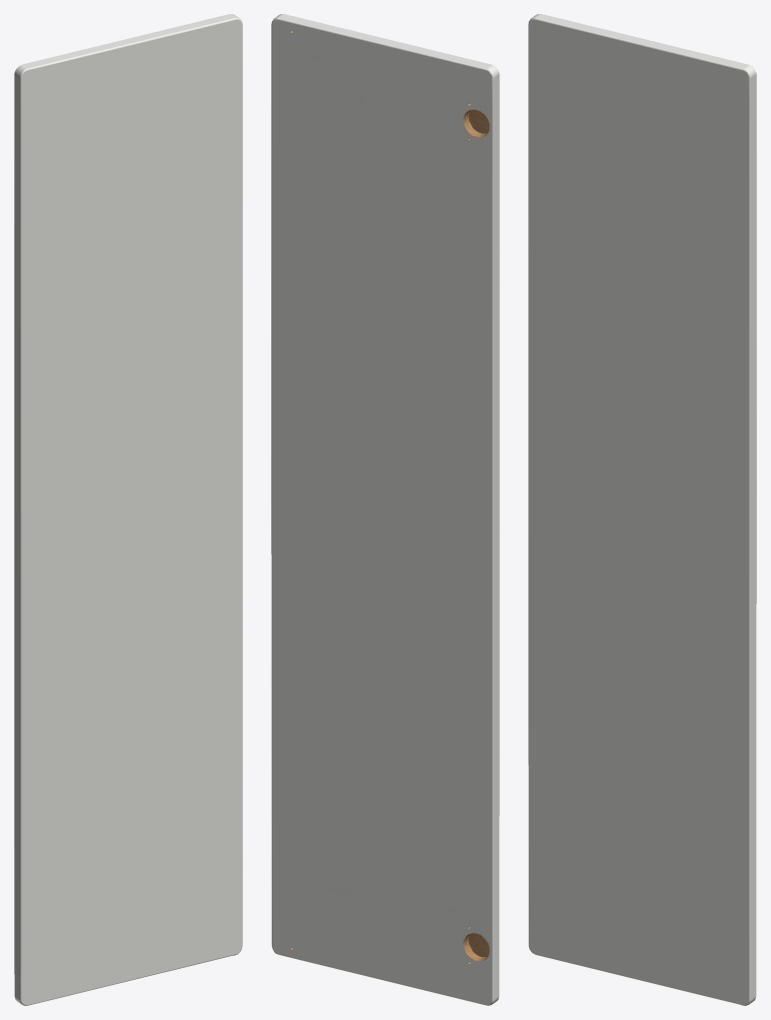
Rendered from smastad_drzwi_90434188.glb.
The picture shows the model from 3 angles, left to right: view 1: azimuth 30°, elevation 25°; view 2: azimuth 150°, elevation 25°; view 3: azimuth 330°, elevation 25°; orthographic projection.
Visible parts, largest first — view 1: smastad_drzwi_90434188; view 2: smastad_drzwi_90434188; view 3: smastad_drzwi_90434188.
Part boxes in pixels (box(x1,y1,x2,y2)): smastad_drzwi_90434188: box(14, 14, 242, 1005); smastad_drzwi_90434188: box(271, 14, 499, 1005); smastad_drzwi_90434188: box(528, 14, 756, 1005).
Bounding box in the file's own units: 0.297 × 1.2 × 0.016.
1 material, 1 textured.
